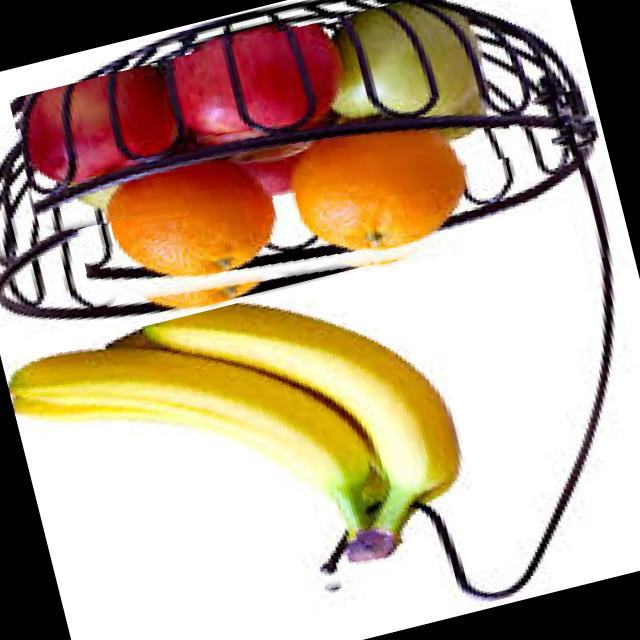Organic: (0, 255, 499, 640), (6, 0, 515, 270), (72, 118, 546, 346)
